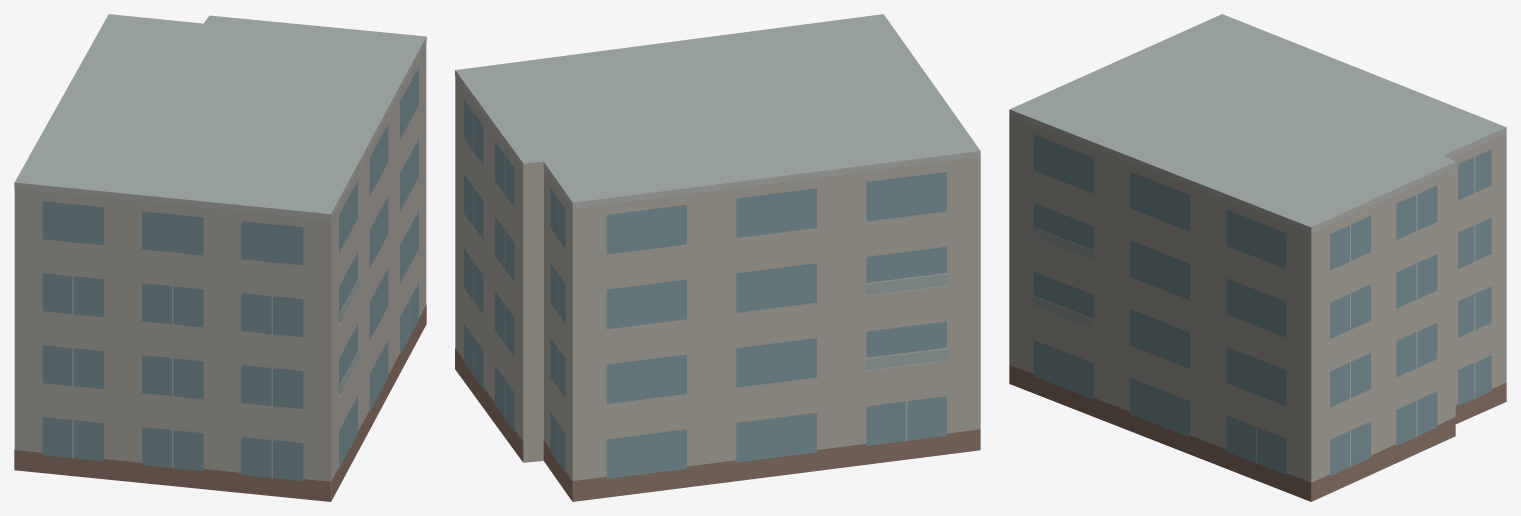
The model's file is survey-upis-33038465.glb.
3 views of the same model, side by side, from view 1: azimuth 30°, elevation 25°; view 2: azimuth 150°, elevation 25°; view 3: azimuth 270°, elevation 25° (orthographic). The views are drawn at different scales.
Visible parts, largest first — view 1: survey-upis-33038465.tmp; view 2: survey-upis-33038465.tmp; view 3: survey-upis-33038465.tmp.
Boxes of the visible parts, <box> form: survey-upis-33038465.tmp: <box>14,14,426,501</box>; survey-upis-33038465.tmp: <box>455,14,980,501</box>; survey-upis-33038465.tmp: <box>1009,14,1506,501</box>.
Bounding box in the file's own units: 20.36 × 12.2 × 20.04.
